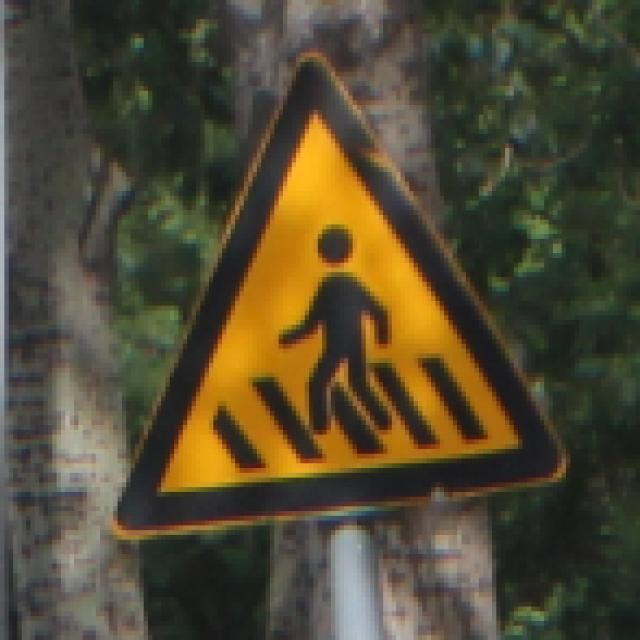Crossing: (96, 44, 586, 534)
